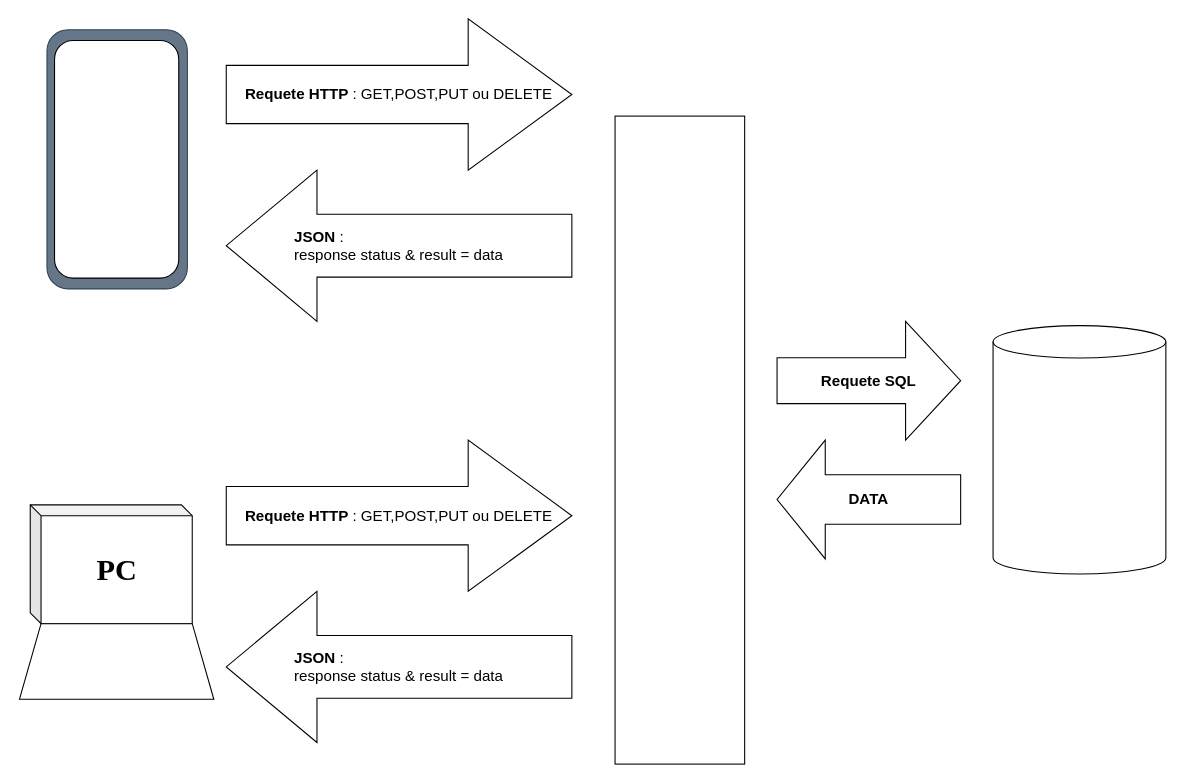
This 1185x783 diagram has some shape labels left out. Each missing label, with the box of its shape:
API: (614, 115, 745, 764)
DataBase: (992, 325, 1166, 574)
MOBILE: (53, 39, 179, 278)
